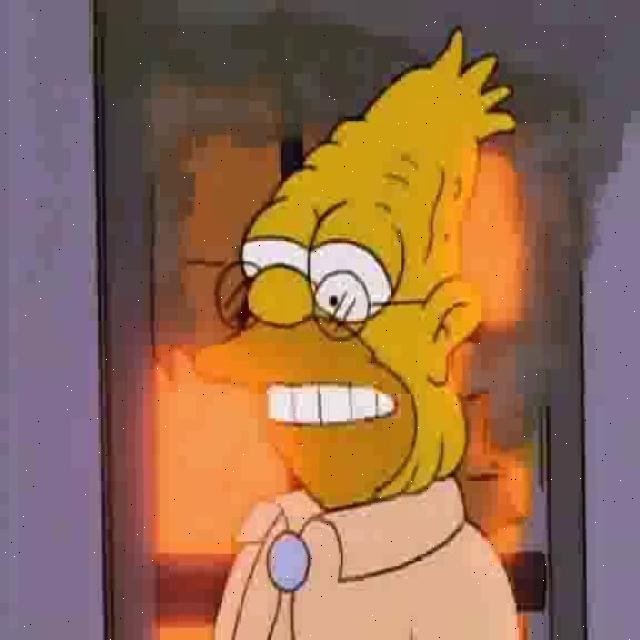Abraham Grampa Simpson: (192, 24, 518, 514)
